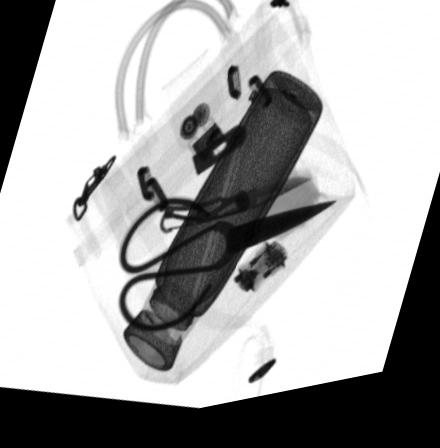Knife: (159, 186, 312, 240)
Scissors: (117, 201, 337, 341)
